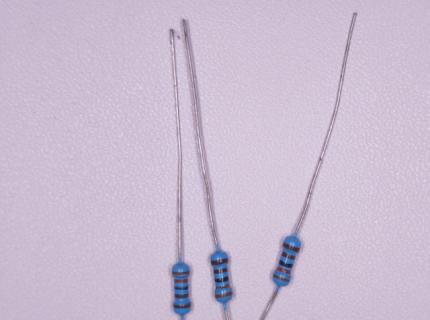Black band: (279, 259, 294, 269), (215, 276, 229, 283), (174, 286, 189, 290)
Brown band: (282, 241, 300, 254), (281, 251, 296, 261), (211, 259, 228, 265), (174, 304, 191, 309), (214, 268, 228, 274), (175, 294, 189, 299)
Orange band: (272, 273, 290, 283), (215, 291, 233, 299), (276, 266, 291, 275), (215, 284, 231, 289), (172, 271, 190, 275), (174, 279, 188, 283)
